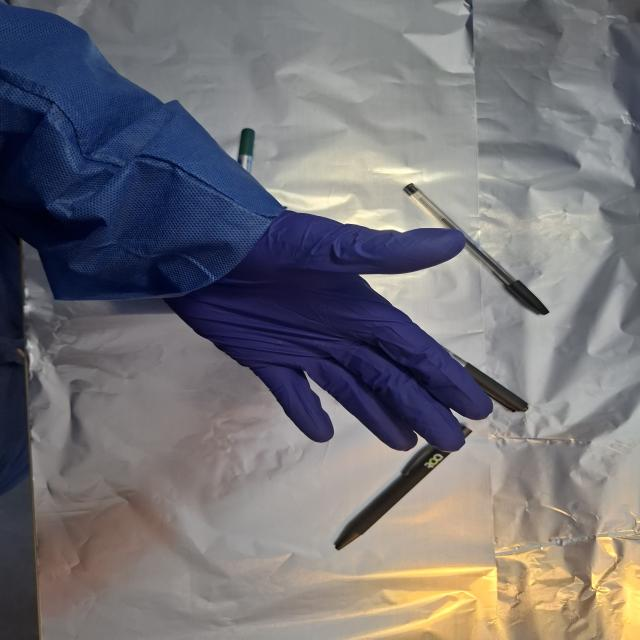glove_on: (158, 209, 498, 454)
